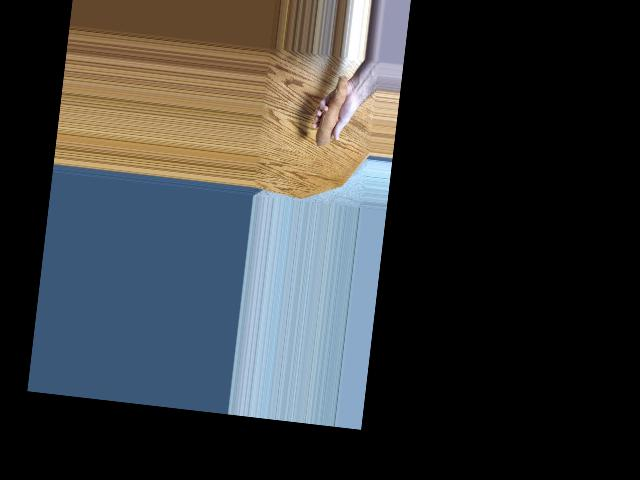sweet_potato: (314, 75, 349, 150)
